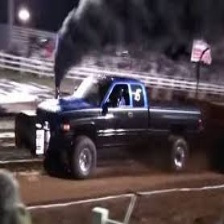smoke: (48, 1, 124, 88)
